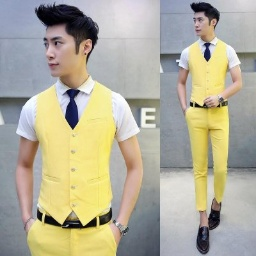face: (33, 1, 97, 80), (188, 1, 222, 37)
